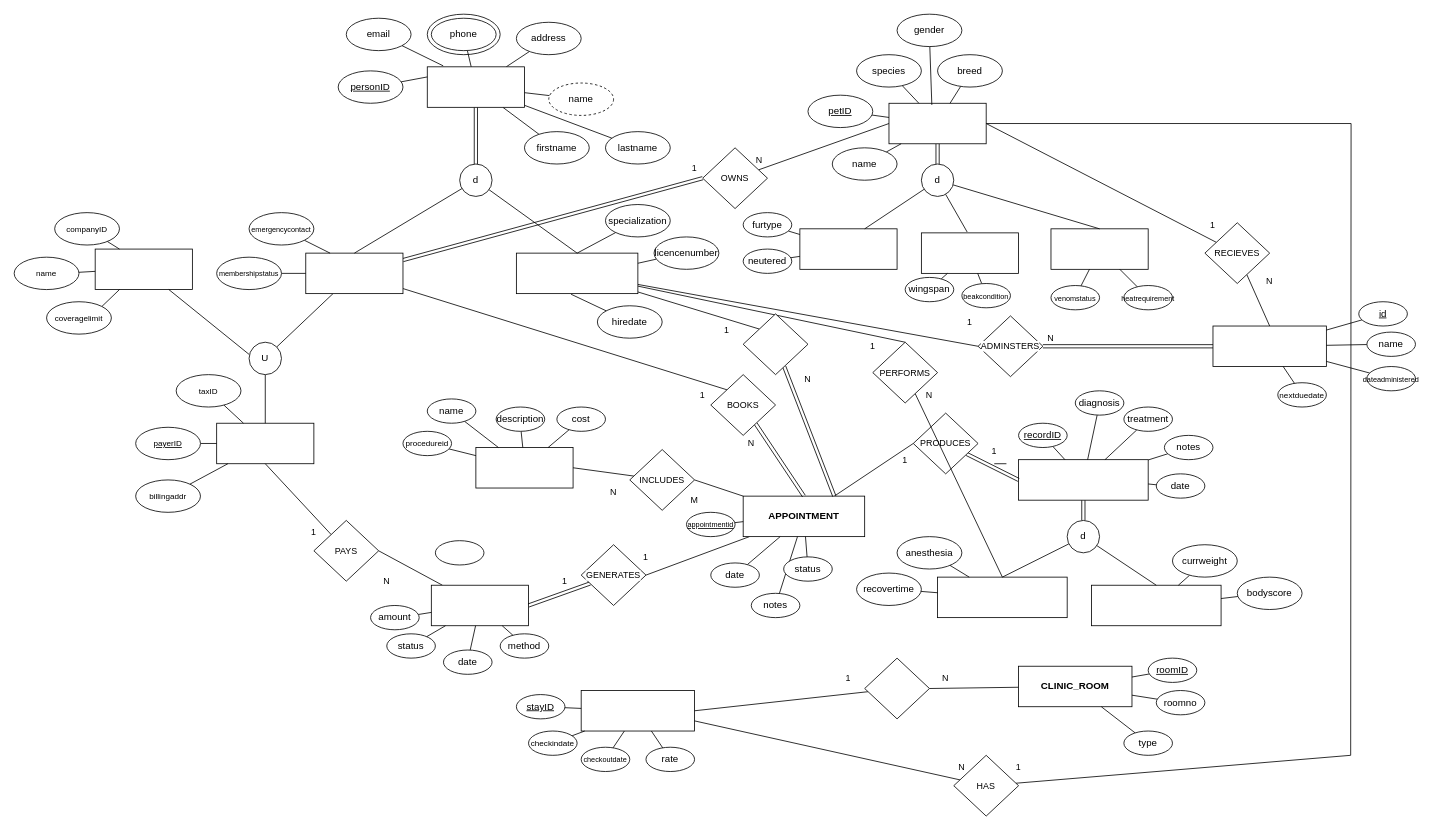
The diagram is 1433 pixels wide and 830 high, and some of its shapes have lost their labels. Each missing label, with the centre of its shape:
ASSIGNEDTO: the point at 896,688
AVIAN: the point at 970,252
BILL: the point at 480,605
billID: the point at 459,552
CONDUCTS: the point at 775,344
INSURANCEPROVIDER: the point at 143,269
KENNEL_STAY: the point at 637,710
MAMMAL: the point at 848,248
MEDICAL_RECORD: the point at 1083,479
OWNER: the point at 354,273
PAYER: the point at 265,443
PERSON: the point at 475,86
PET: the point at 937,123
PROCEDURE: the point at 524,467
REPTILE: the point at 1099,248
SURGERYRECORD: the point at 1002,597
VACCINATION: the point at 1269,346
VETERINARIAN: the point at 577,273
WELLNESSVISIT: the point at 1156,605
